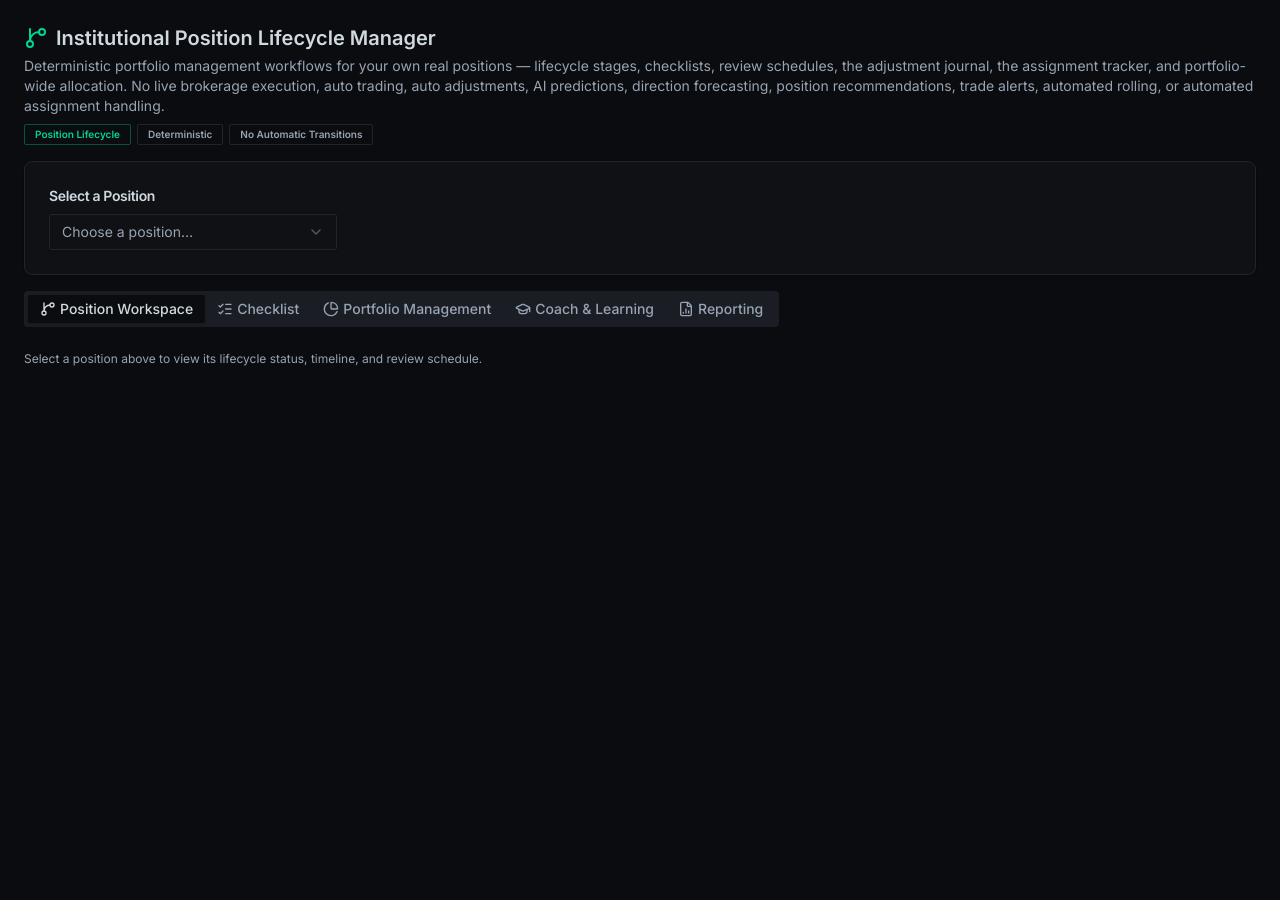
Test: OptionsLifecycleManager › the Checklist tab honestly shows a build form when no checklist exists yet, and never changes the lifecycle stage
The image size is (1280, 900).
Click the dropdown with test id "position-picker-select": (193, 232) left=49, top=214, right=337, bottom=250
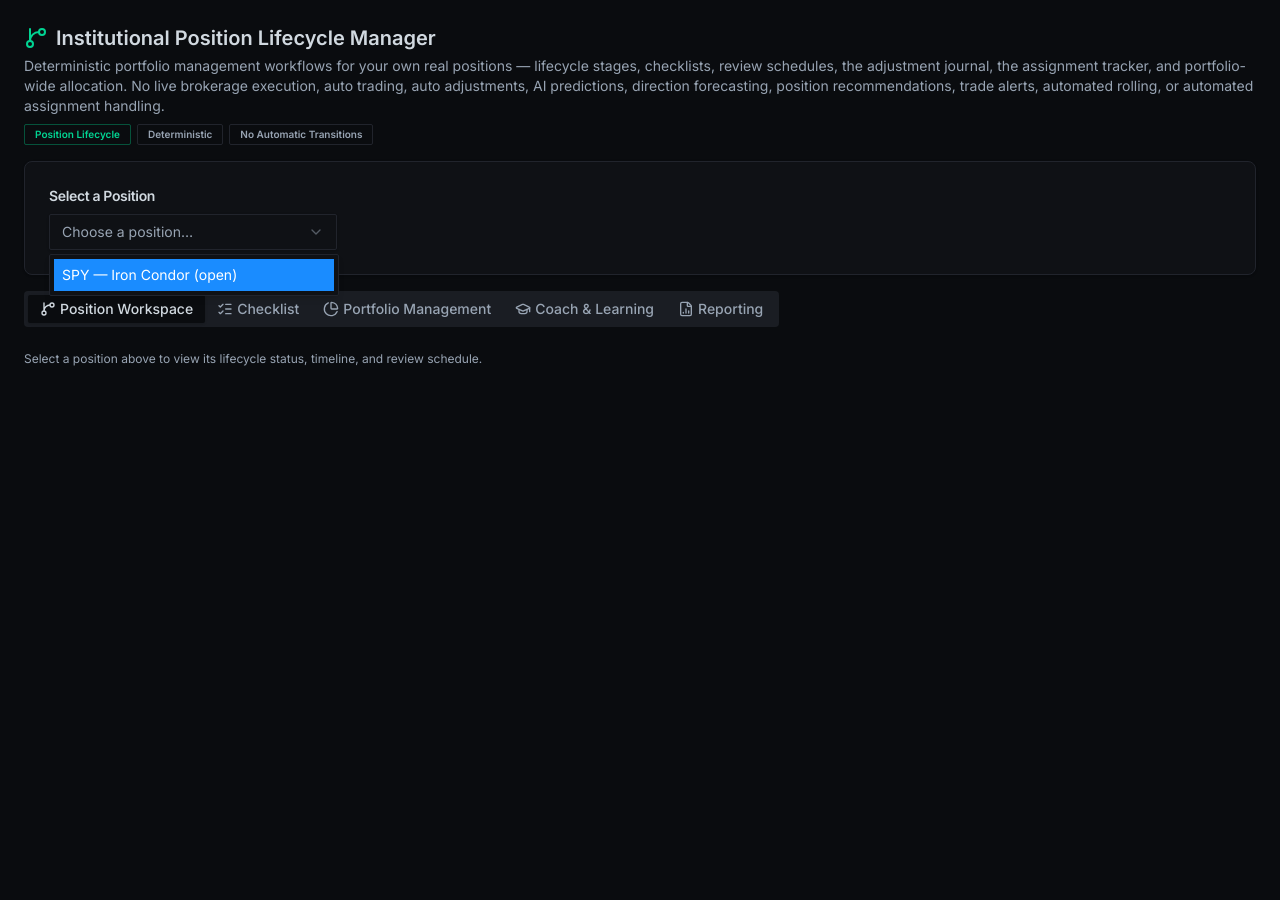
Click the option with test id "position-picker-option-1": (194, 275) left=54, top=259, right=334, bottom=291
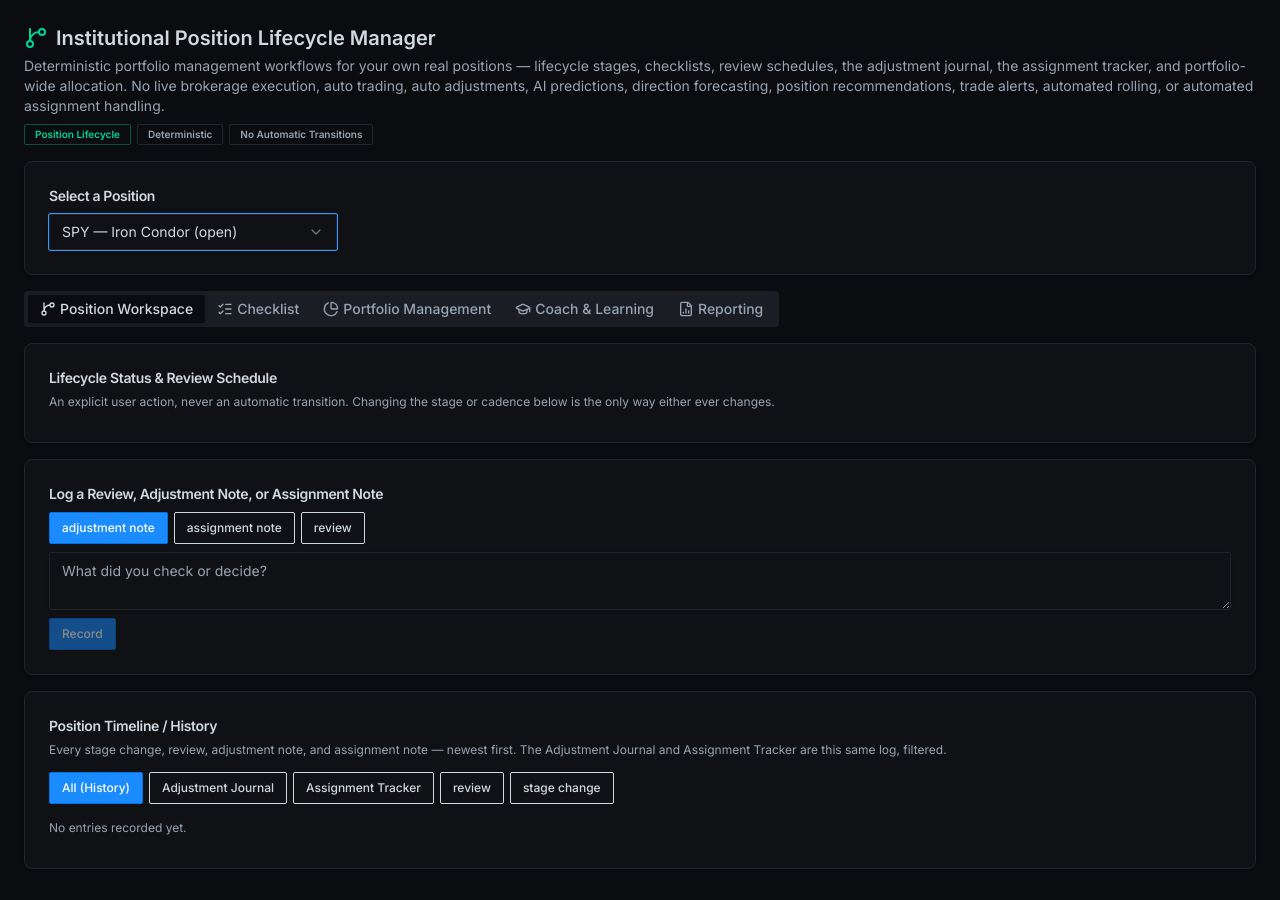
Click the tab with test id "tab-olm-checklist": (258, 309) left=205, top=295, right=311, bottom=323
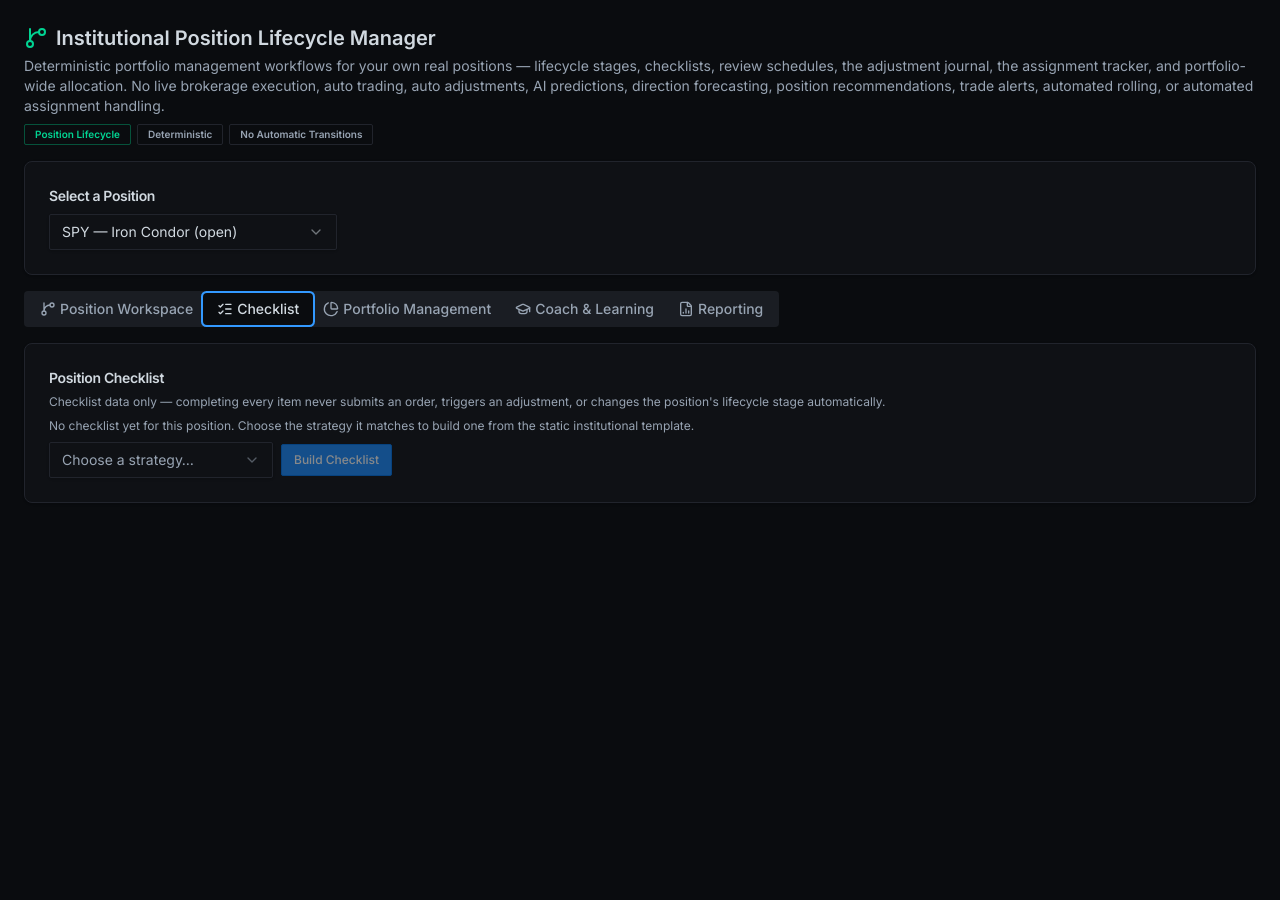
Expected: the element with test id "checklist-build-form" is shown, left=49, top=418, right=694, bottom=478
